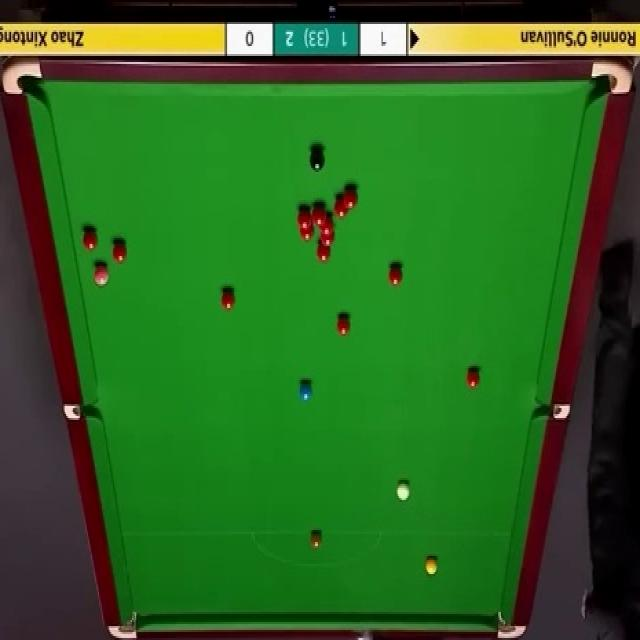black-ball: (309, 144, 325, 174)
blue-ball: (298, 382, 313, 403)
brown-ball: (310, 530, 323, 550)
pink-ball: (93, 262, 109, 288)
red-ball: (387, 261, 404, 288), (342, 185, 359, 209), (81, 228, 98, 251), (332, 192, 348, 216), (110, 240, 126, 264), (297, 205, 312, 230), (220, 288, 235, 312), (336, 314, 351, 336), (466, 366, 480, 389), (312, 205, 326, 227), (316, 246, 332, 263), (320, 216, 334, 234), (320, 232, 334, 248), (300, 227, 314, 240)
white-ball: (397, 479, 411, 505)
yellow-ball: (424, 554, 437, 575)
